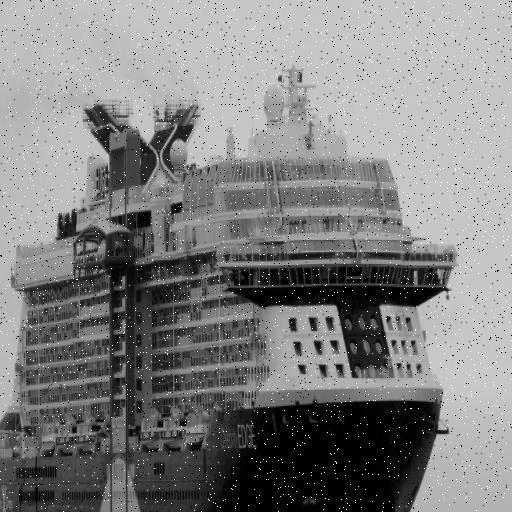cruises: (1, 65, 464, 512)
